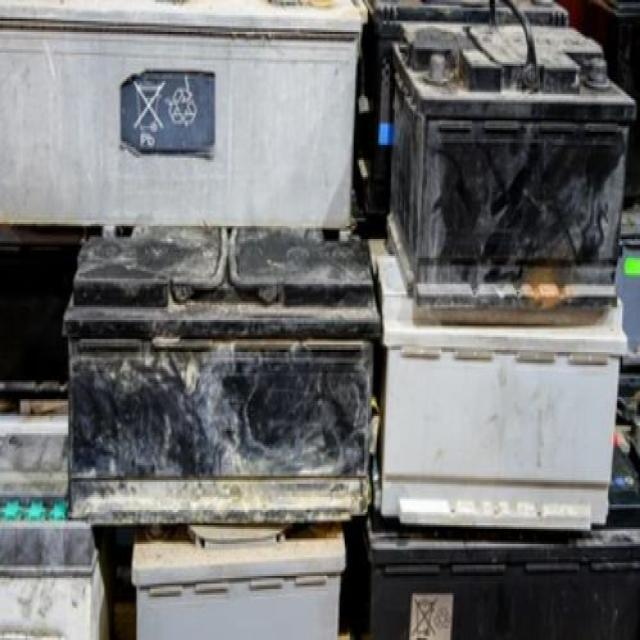electronic: (51, 183, 379, 549)
